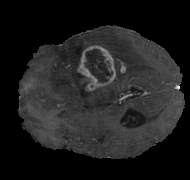Edema: (52, 26, 153, 111)
EnhancingTumors: (76, 43, 124, 93)
Necrosis: (78, 46, 113, 90)
